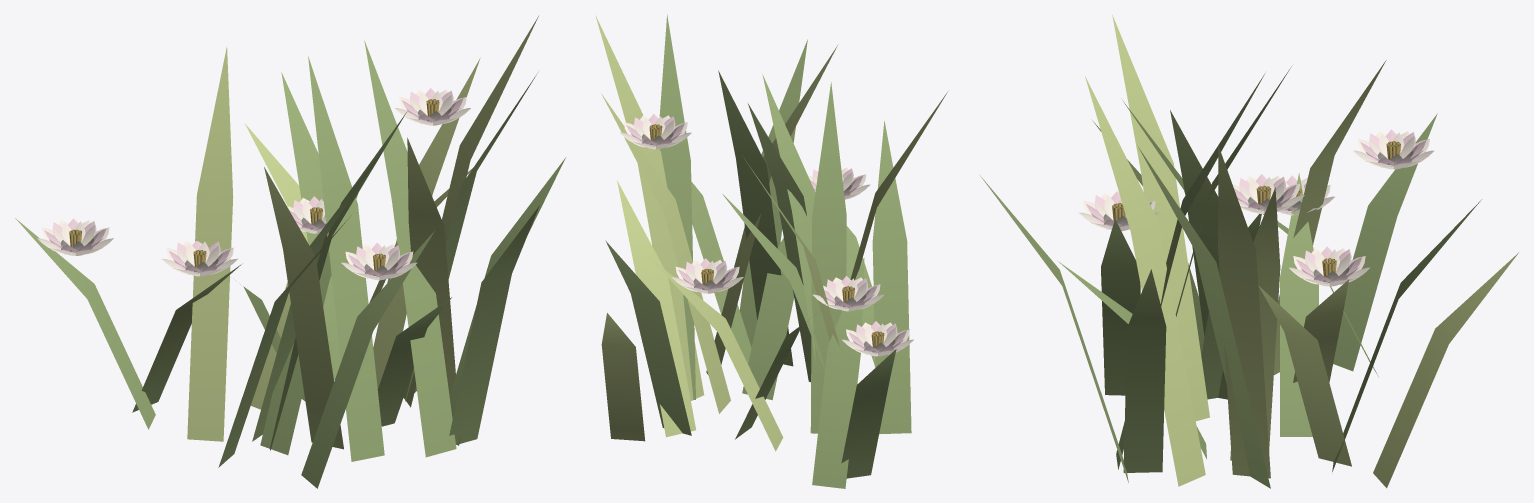
The model's file is lake_reeds_1.glb.
3 views of the same model, side by side, from view 1: azimuth 30°, elevation 25°; view 2: azimuth 150°, elevation 25°; view 3: azimuth 270°, elevation 25° (orthographic). The views are drawn at different scales.
Visible parts, largest first — view 1: lake_reeds_1_LakeReed, lake_reeds_1_LakeWillowLight, lake_reeds_1_LakePetal, lake_reeds_1_LakePink, lake_reeds_1_LakePollen; view 2: lake_reeds_1_LakeReed, lake_reeds_1_LakeWillowLight, lake_reeds_1_LakePetal, lake_reeds_1_LakePink, lake_reeds_1_LakePollen; view 3: lake_reeds_1_LakeWillowLight, lake_reeds_1_LakeReed, lake_reeds_1_LakePetal, lake_reeds_1_LakePink, lake_reeds_1_LakePollen.
Part boxes in pixels (bbox=[...]): lake_reeds_1_LakeReed: bbox=[15, 40, 565, 488]; lake_reeds_1_LakeWillowLight: bbox=[187, 16, 538, 449]; lake_reeds_1_LakePetal: bbox=[37, 89, 470, 280]; lake_reeds_1_LakePink: bbox=[44, 88, 463, 277]; lake_reeds_1_LakePollen: bbox=[69, 99, 439, 276]; lake_reeds_1_LakeReed: bbox=[605, 14, 911, 488]; lake_reeds_1_LakeWillowLight: bbox=[595, 15, 947, 451]; lake_reeds_1_LakePetal: bbox=[620, 115, 913, 356]; lake_reeds_1_LakePink: bbox=[626, 114, 906, 353]; lake_reeds_1_LakePollen: bbox=[649, 124, 884, 352]; lake_reeds_1_LakeWillowLight: bbox=[1085, 15, 1518, 488]; lake_reeds_1_LakeReed: bbox=[980, 66, 1481, 488]; lake_reeds_1_LakePetal: bbox=[1078, 131, 1434, 286]; lake_reeds_1_LakePink: bbox=[1086, 129, 1426, 283]; lake_reeds_1_LakePollen: bbox=[1112, 141, 1400, 282].
Bounding box in the file's own units: 1.25 × 1.04 × 1.3.
